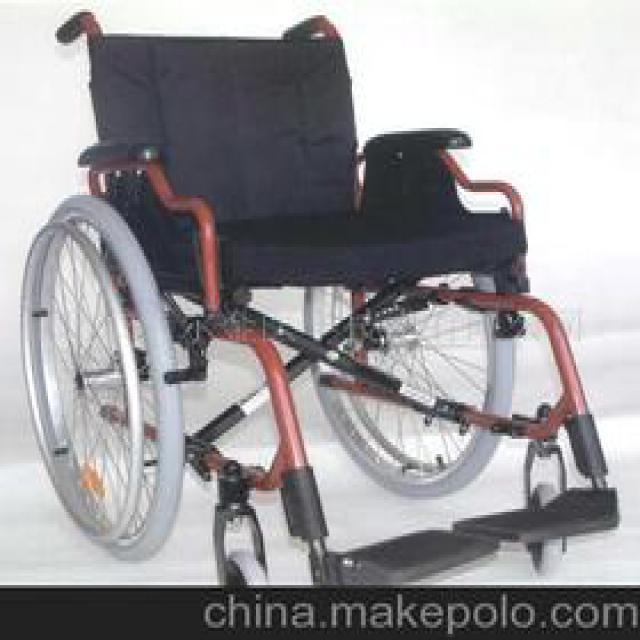wheelchair: (18, 9, 624, 576)
